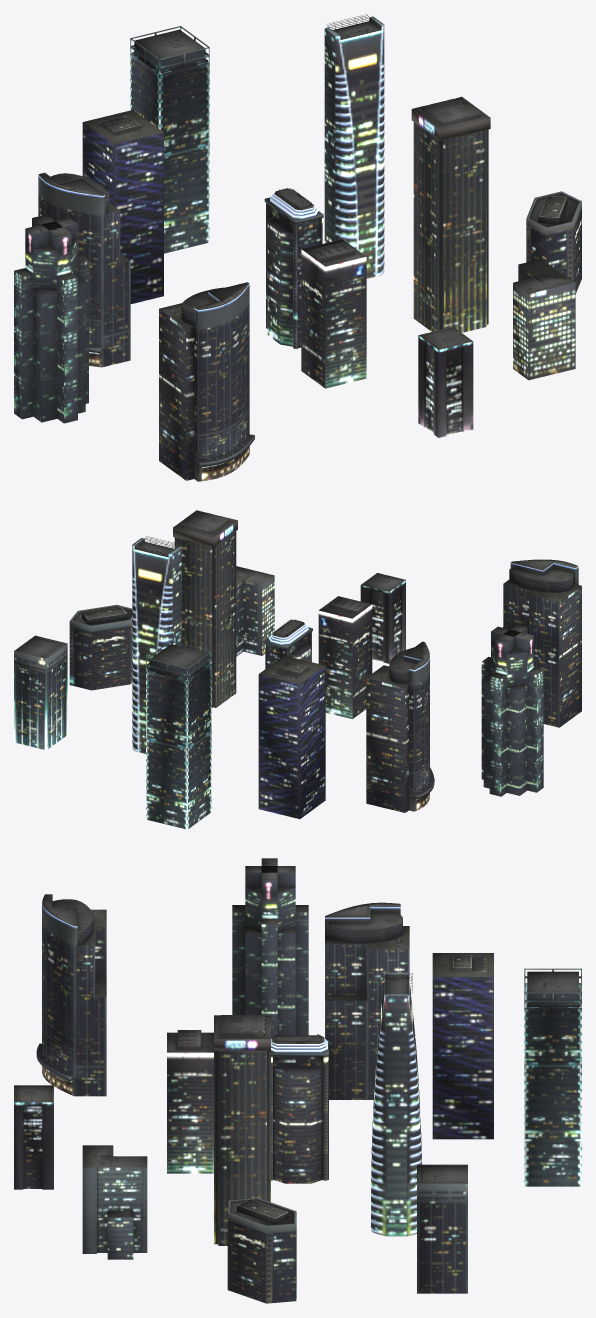
Rendered from office-night-skyline.glb.
3 renders of one model, top to bottom at view 1: azimuth 30°, elevation 25°; view 2: azimuth 150°, elevation 25°; view 3: azimuth 270°, elevation 25°, orthographic. The views are drawn at different scales.
Parts seen in each view (by area): view 1: Cube.001; view 2: Cube.001; view 3: Cube.001.
Part boxes in pixels (x1,y1,x2,y2): Cube.001: (14, 14, 581, 481); Cube.001: (14, 510, 581, 829); Cube.001: (14, 858, 581, 1303).
Bounding box in the file's own units: 35.3 × 14.8 × 31.16.
1 material, 1 textured.
